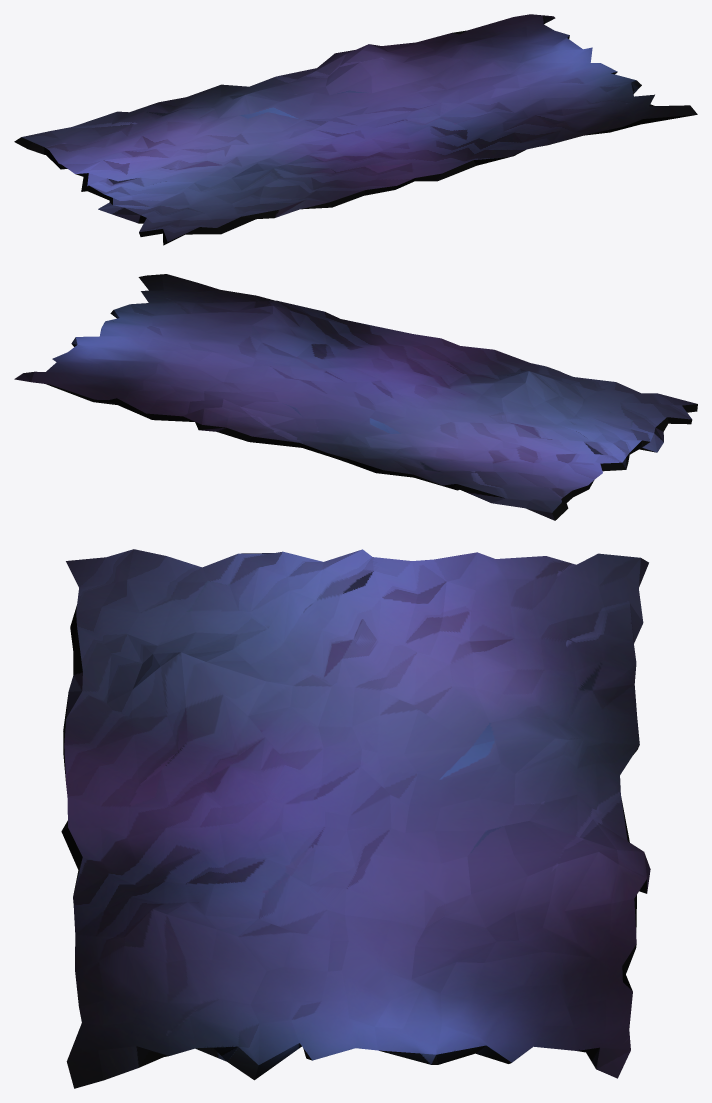
Rendered from Suelo.fbx.
3 views of the same model, one above another, from view 1: azimuth 30°, elevation 25°; view 2: azimuth 150°, elevation 25°; view 3: azimuth 270°, elevation 25° (orthographic). The views are drawn at different scales.
Visible parts, largest first — view 1: Suelo; view 2: Suelo; view 3: Suelo.
Boxes of the visible parts, x1,y1,x2,y2 form: Suelo: [14, 14, 697, 245]; Suelo: [14, 274, 697, 520]; Suelo: [61, 549, 650, 1088].
Bounding box in the file's own units: 2499 × 126 × 1164.
